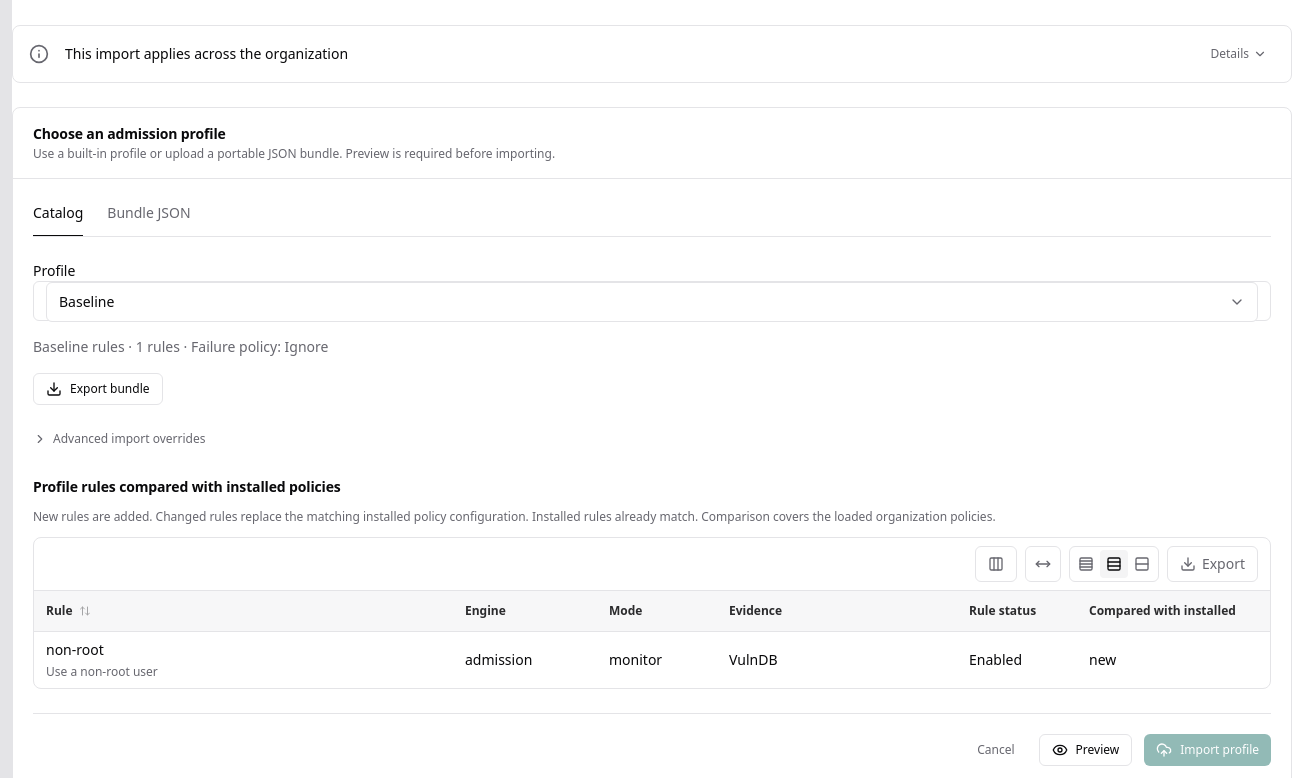
Test: requires another preview after changing profile
The width and height of the screenshot is (1292, 778).
(page scrolled)
Click the button "Preview". click: click(1085, 750)
box: top-left (1038, 734), bottom-right (1132, 766)
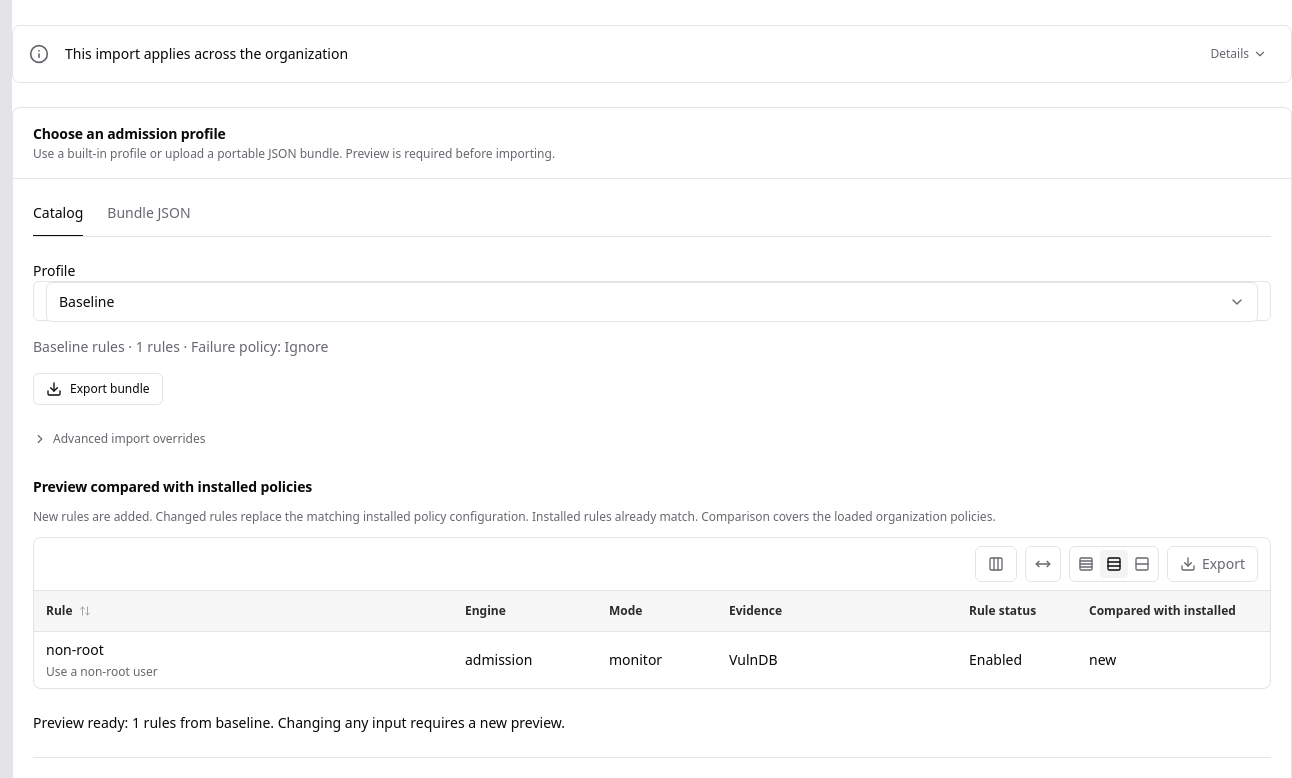
Select "Restricted" in the dropdown labelled "Profile Baseline". click: (652, 291)
box: top-left (33, 261), bottom-right (1271, 321)
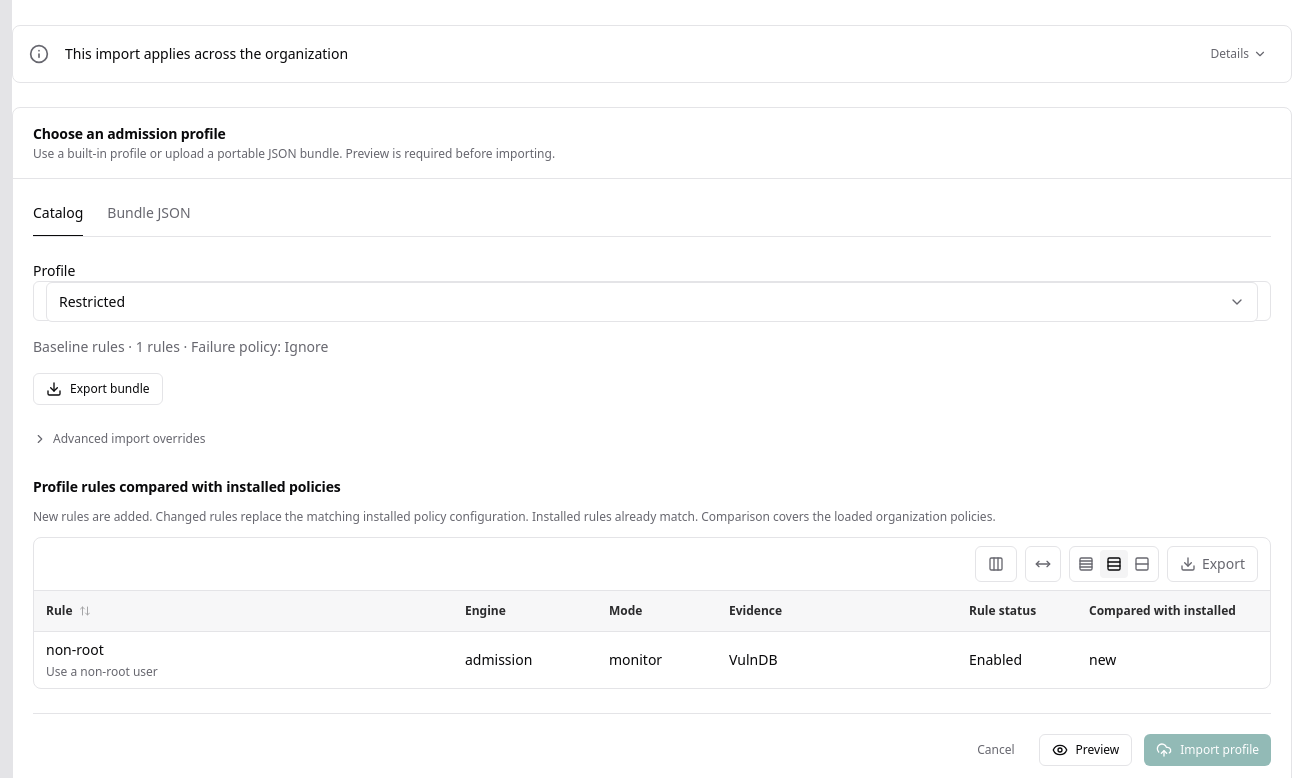
Expected: the button "Import profile" is disabled, top-left (1144, 734), bottom-right (1271, 766)
